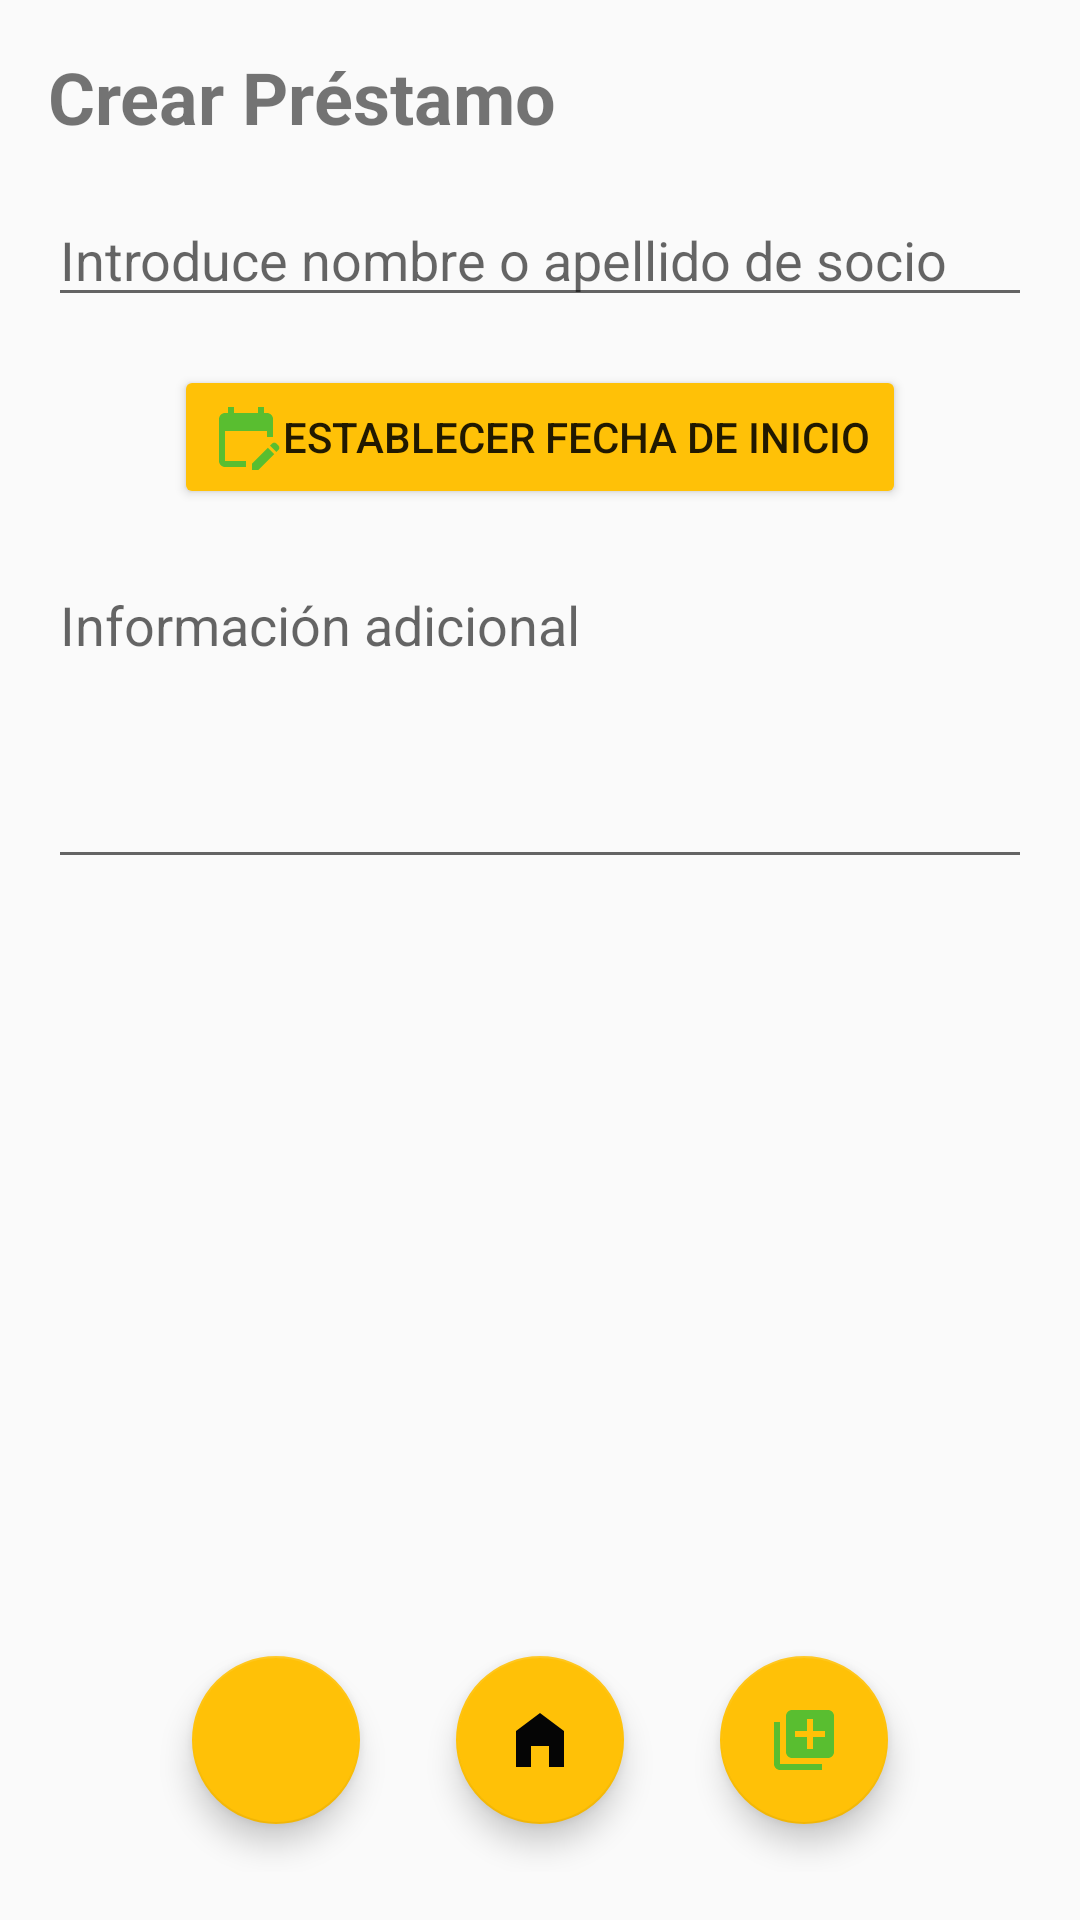

Where to tap for icons on this 1080px x 1920px app screen, as point (x, y):
guardar: point (804, 1740)
home: point (540, 1740)
